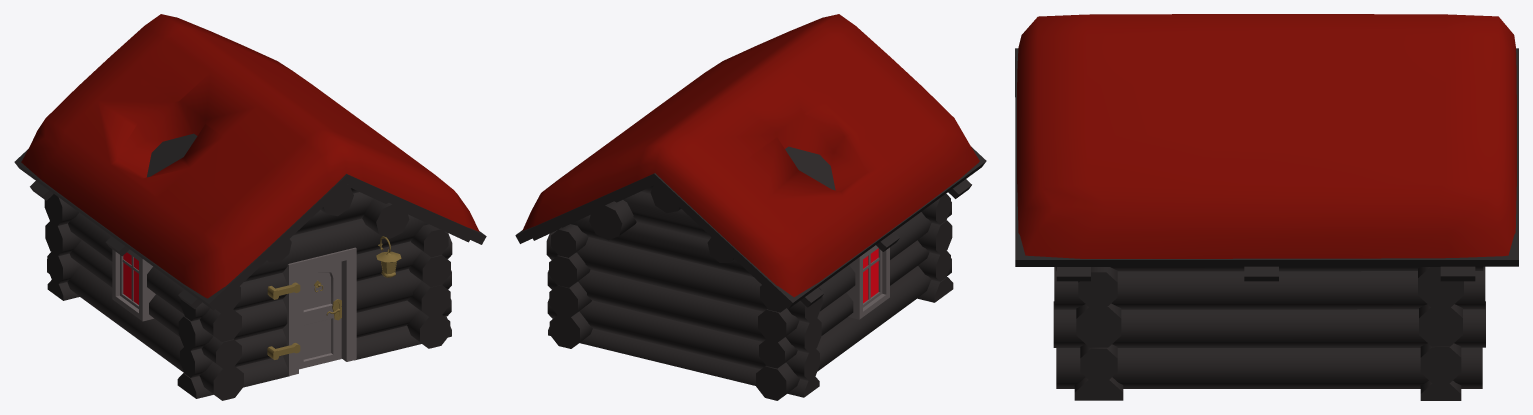
Rendered from evil_house(1).fbx.
The picture shows the model from 3 angles, left to right: view 1: azimuth 30°, elevation 25°; view 2: azimuth 150°, elevation 25°; view 3: azimuth 270°, elevation 25°; orthographic projection. The views are drawn at different scales.
Parts seen in each view (by area): view 1: snow_roof.001, House.001, Door.001, Lamp.001; view 2: snow_roof.001, House.001; view 3: snow_roof.001, House.001.
Boxes of the visible parts, x1,y1,x2,y2 form: snow_roof.001: [21, 14, 479, 298]; House.001: [14, 133, 486, 400]; Door.001: [299, 261, 341, 369]; Lamp.001: [376, 236, 401, 277]; snow_roof.001: [522, 14, 979, 297]; House.001: [515, 146, 986, 400]; snow_roof.001: [1017, 14, 1516, 258]; House.001: [1015, 48, 1518, 400].
Size of the model in its own units: 137 by 110 by 165.
